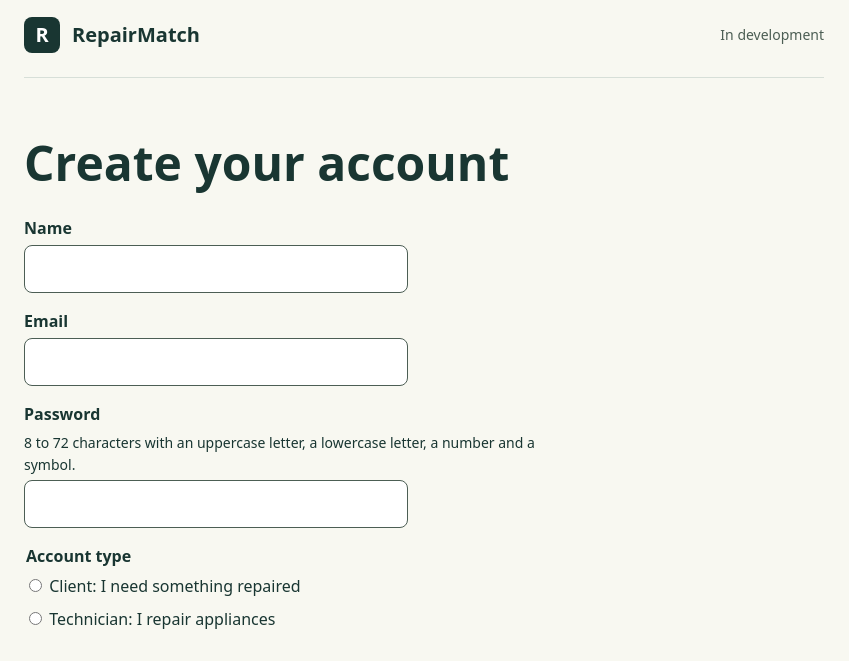
Scenario: register form › shows per-field server errors
The width and height of the screenshot is (849, 661).
Type "Test Client" into the field labelled "Name". click: x=216, y=269
box: [24, 245, 408, 293]
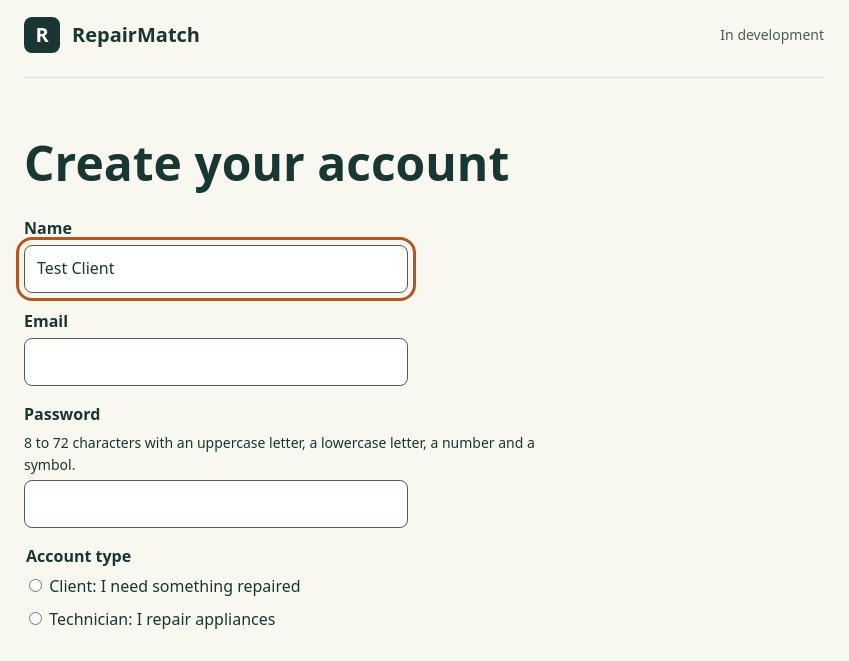
Type "client@example.test" into the field labelled "Email". click: x=216, y=362
box: [24, 338, 408, 386]
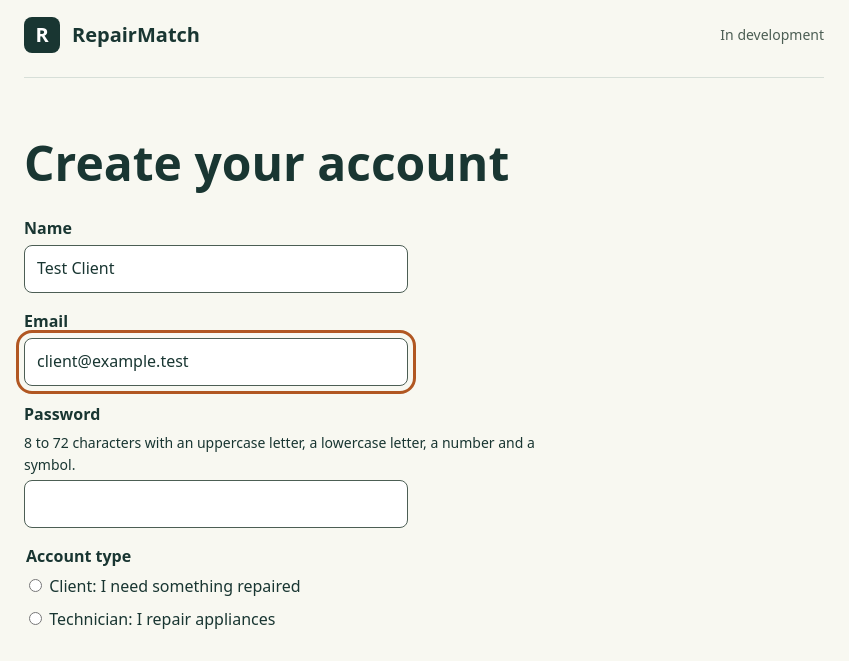
Type "Test-pass-1" into the password field labelled "Password". click: x=216, y=504
box: [24, 480, 408, 528]
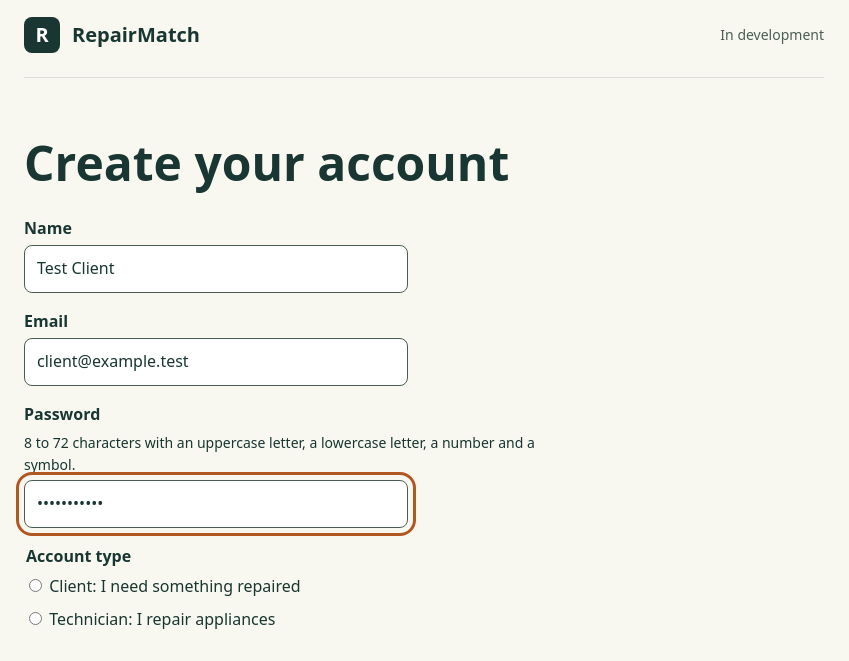
Click the radio button labelled "Client: I need something repaired". click: x=36, y=585
box: [29, 578, 42, 592]
(page scrolled)
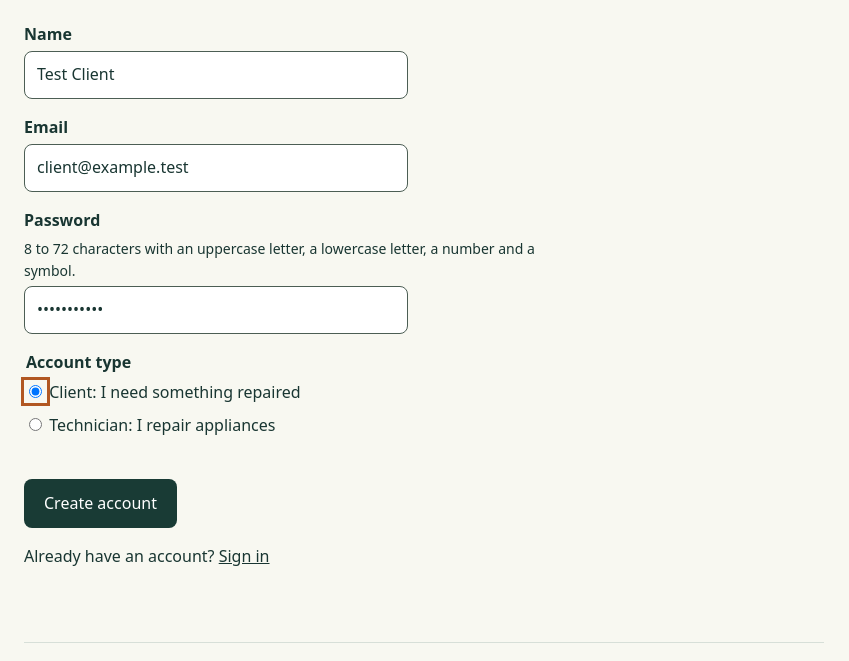
Click the button "Create account". click: x=100, y=504
box: [24, 479, 177, 528]
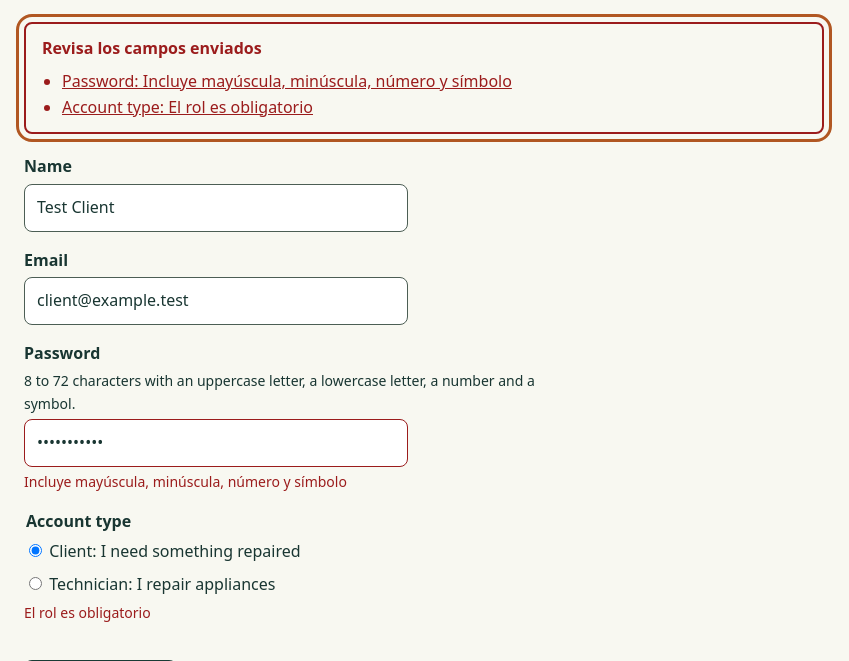
Now the message shows "Revisa los campos enviados", box [42, 37, 262, 59]
